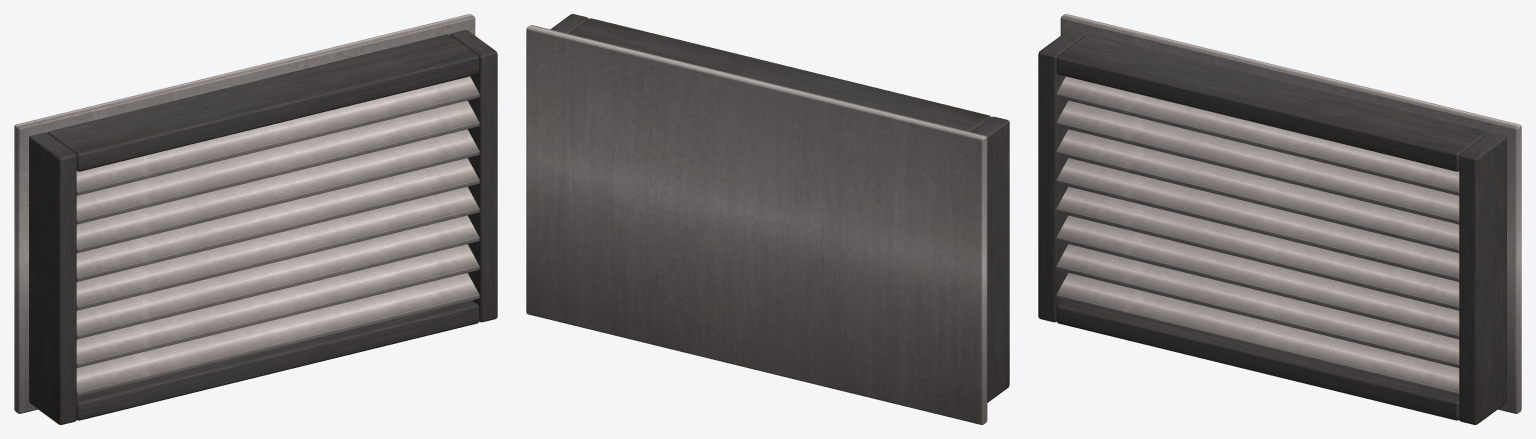
Rendered from SM_FacilityRooms_WallVent.fbx.
3 views of the same model, side by side, from view 1: azimuth 30°, elevation 25°; view 2: azimuth 150°, elevation 25°; view 3: azimuth 330°, elevation 25° (orthographic).
Parts seen in each view (by area): view 1: SM_FacilityRooms_WallVent; view 2: SM_FacilityRooms_WallVent; view 3: SM_FacilityRooms_WallVent.
Boxes of the visible parts, x1=… form: SM_FacilityRooms_WallVent: x1=14, y1=14, x2=497, y2=424; SM_FacilityRooms_WallVent: x1=526, y1=14, x2=1009, y2=424; SM_FacilityRooms_WallVent: x1=1038, y1=14, x2=1521, y2=424.
Size of what is drawn, in the model's own units: 100 by 14 by 60.
